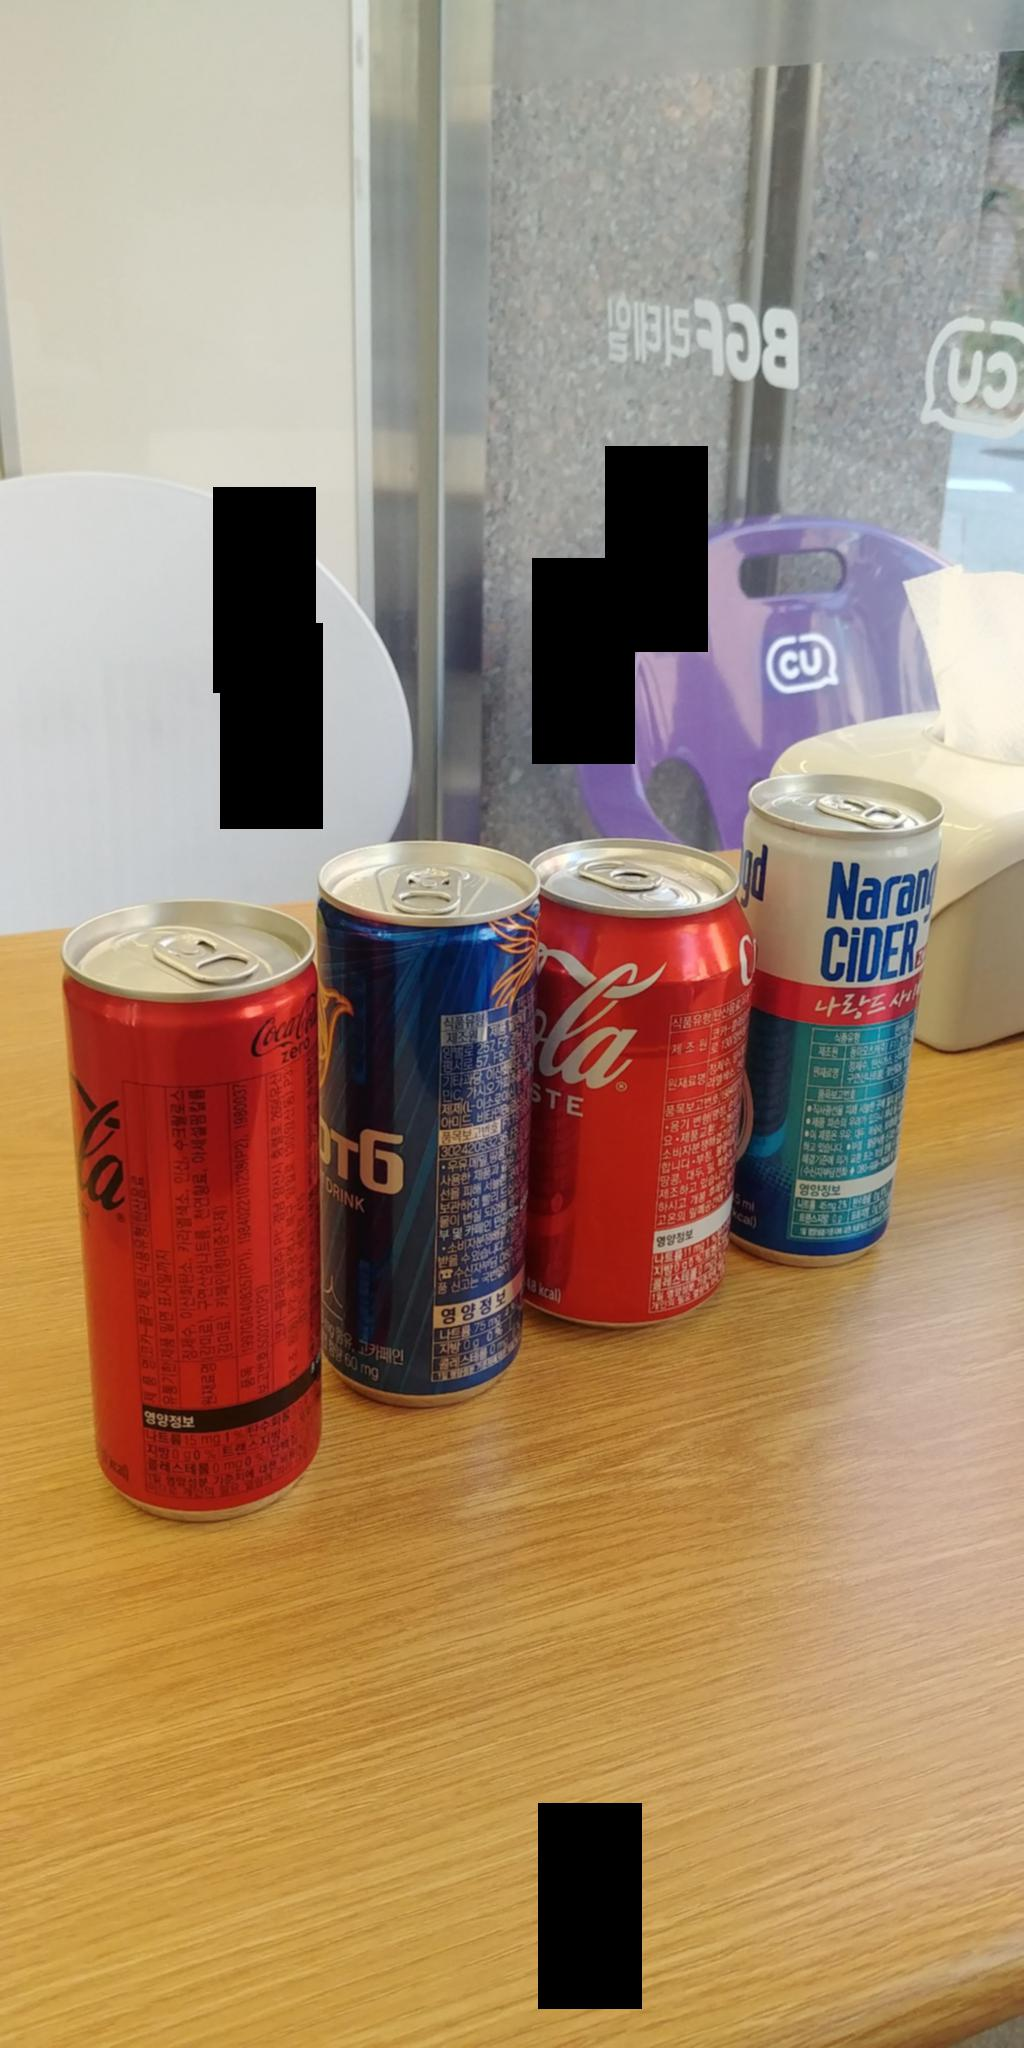cocacola: (533, 832, 759, 1332)
hotsix_org: (307, 841, 549, 1415)
narangdcider: (759, 758, 948, 1287)
